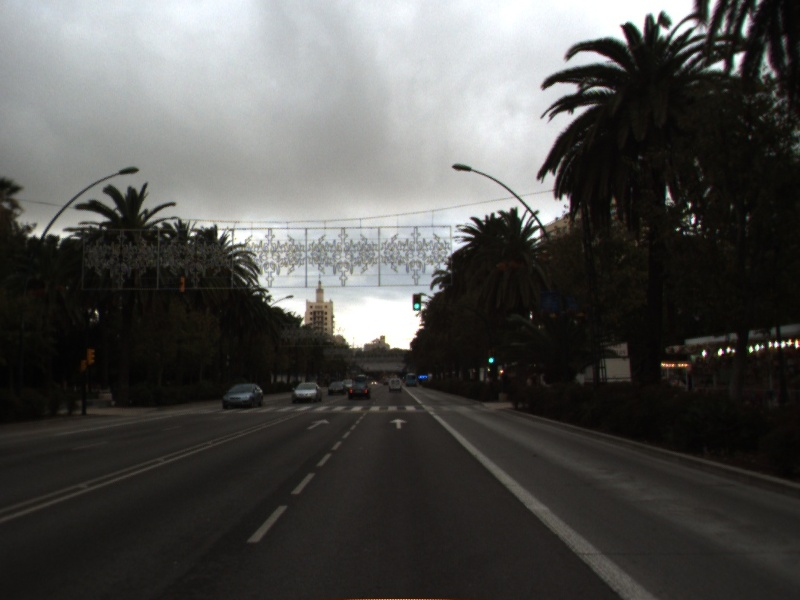STRAIGHT: (304, 417, 332, 432), (387, 416, 410, 431)
